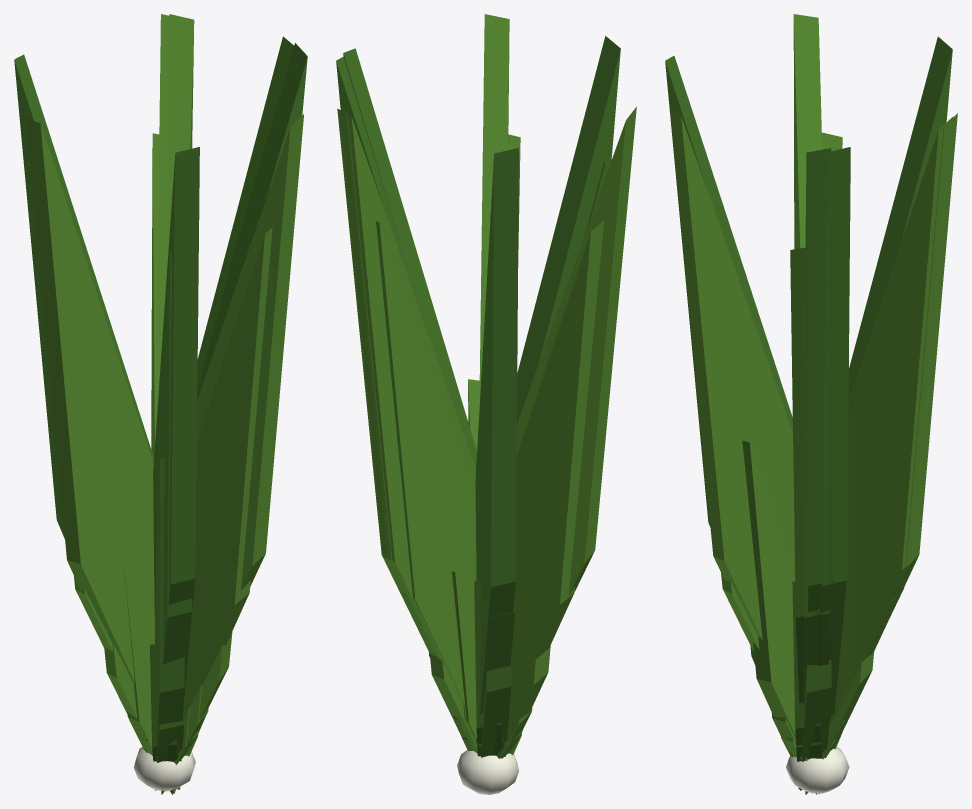
The model's file is Crop_Veg_Leek.fbx.
The picture shows the model from 3 angles, left to right: view 1: azimuth 30°, elevation 25°; view 2: azimuth 150°, elevation 25°; view 3: azimuth 270°, elevation 25°; orthographic projection.
Parts seen in each view (by area): view 1: Crop_Veg_Leek__S4, Crop_Veg_Leek__S3, Crop_Veg_Leek__S2, Crop_Veg_Leek__S5, Crop_Veg_Leek__S1; view 2: Crop_Veg_Leek__S4, Crop_Veg_Leek__S3, Crop_Veg_Leek__S2, Crop_Veg_Leek__S5; view 3: Crop_Veg_Leek__S4, Crop_Veg_Leek__S3, Crop_Veg_Leek__S2, Crop_Veg_Leek__S5, Crop_Veg_Leek__S1.
Part boxes in pixels (x1,y1,x2,y2): Crop_Veg_Leek__S4: [14, 14, 307, 791]; Crop_Veg_Leek__S3: [74, 133, 272, 791]; Crop_Veg_Leek__S2: [104, 458, 232, 793]; Crop_Veg_Leek__S5: [124, 572, 208, 794]; Crop_Veg_Leek__S1: [142, 644, 198, 794]; Crop_Veg_Leek__S4: [336, 14, 636, 794]; Crop_Veg_Leek__S3: [376, 134, 605, 718]; Crop_Veg_Leek__S2: [429, 379, 550, 758]; Crop_Veg_Leek__S5: [451, 571, 532, 758]; Crop_Veg_Leek__S4: [665, 14, 957, 793]; Crop_Veg_Leek__S3: [721, 132, 904, 728]; Crop_Veg_Leek__S2: [742, 440, 874, 794]; Crop_Veg_Leek__S5: [771, 581, 845, 794]; Crop_Veg_Leek__S1: [781, 737, 838, 794].
Size of the model in its own units: 0.1002 by 0.2458 by 0.0919.
